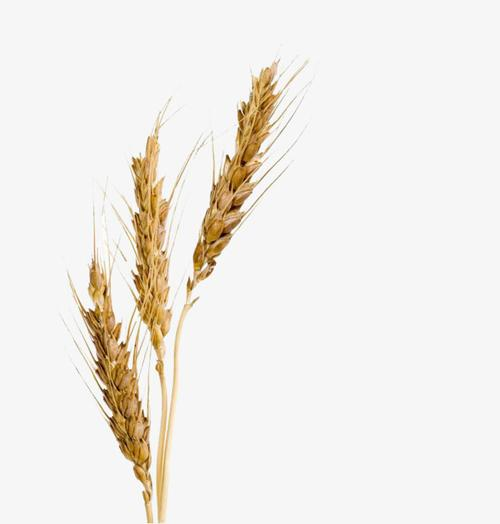wheat: (182, 40, 319, 333), (50, 244, 156, 490), (127, 113, 173, 379)
